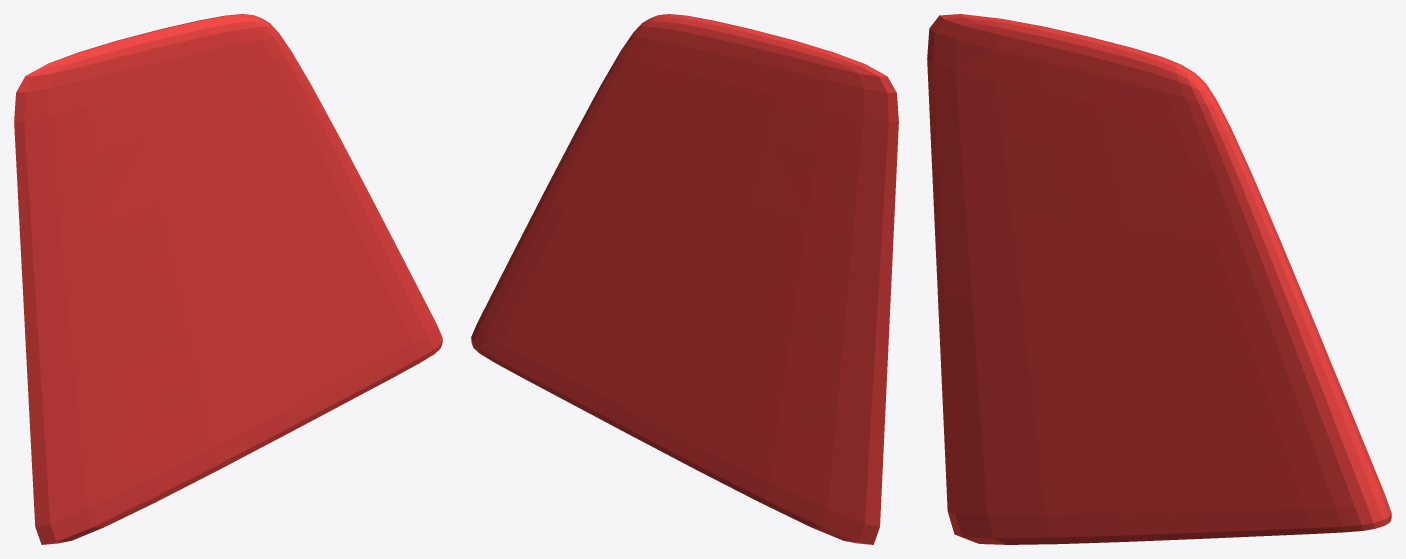
File: Fin.dae
3 renders of one model, left to right at view 1: azimuth 30°, elevation 25°; view 2: azimuth 150°, elevation 25°; view 3: azimuth 330°, elevation 25°, orthographic. The views are drawn at different scales.
Parts seen in each view (by area): view 1: Flosse; view 2: Flosse; view 3: Flosse.
Boxes of the visible parts, x1,y1,x2,y2 form: Flosse: (14,14,442,544); Flosse: (471,14,898,544); Flosse: (927,14,1391,544).
Size of the model in its own units: 0.0895 by 0.008 by 0.098.
